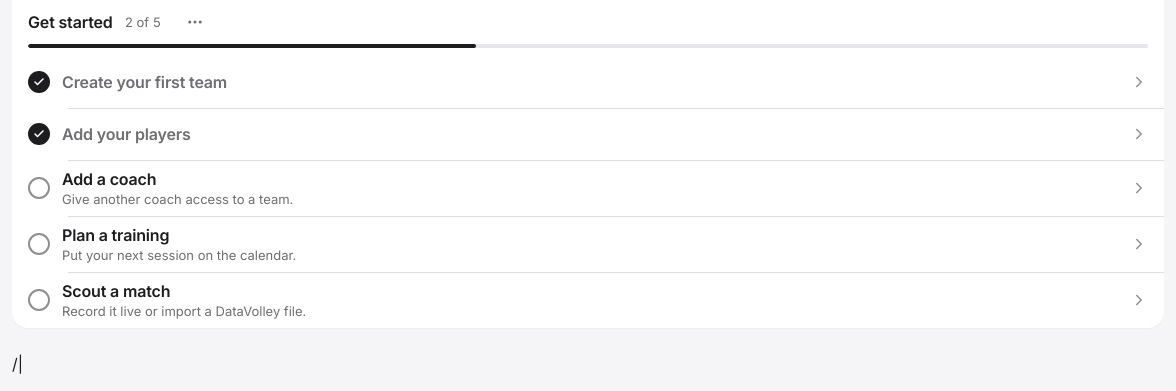
Test: GetStartedCard › Scout a match, Add a coach and Create your first team navigate
The image size is (1176, 391).
Click the button "Scout a match Record it live or import a DataVolley file.": (116, 291) [12,272,1164,328]
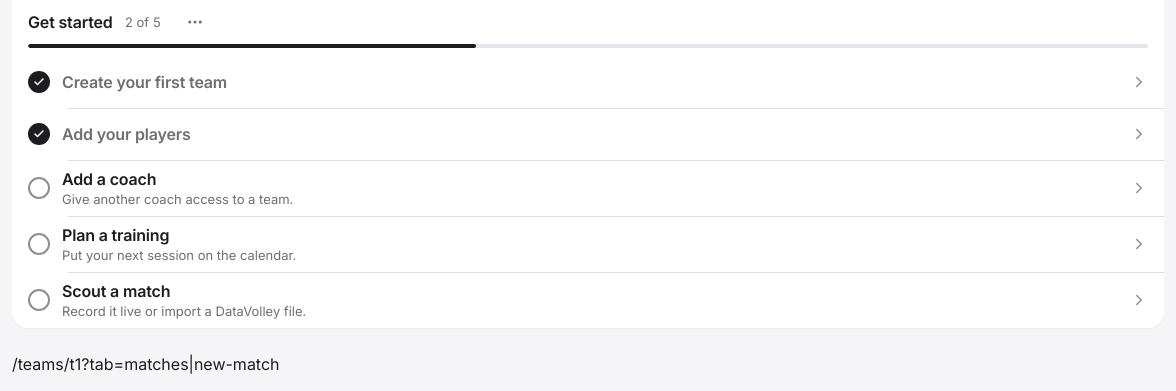
Result: the text with test id "where" reads "/teams/t1?tab=matches|new-match" at [12,354,280,374]
Click the button "Add a coach Give another coach access to a team.": (109, 179) [12,160,1164,216]
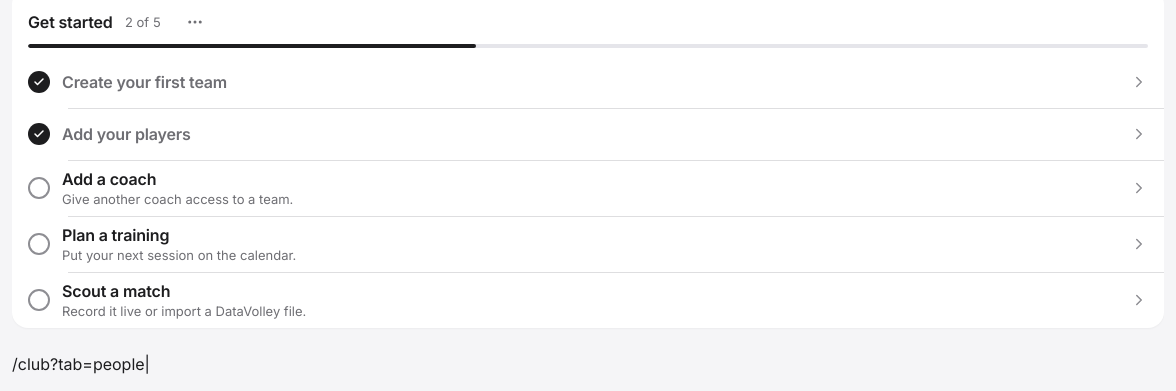
Result: the text with test id "where" reads "/club?tab=people|" at [12,354,150,374]
Click the button with aria-label "Create your first team, done": (145, 82) [12,56,1164,108]
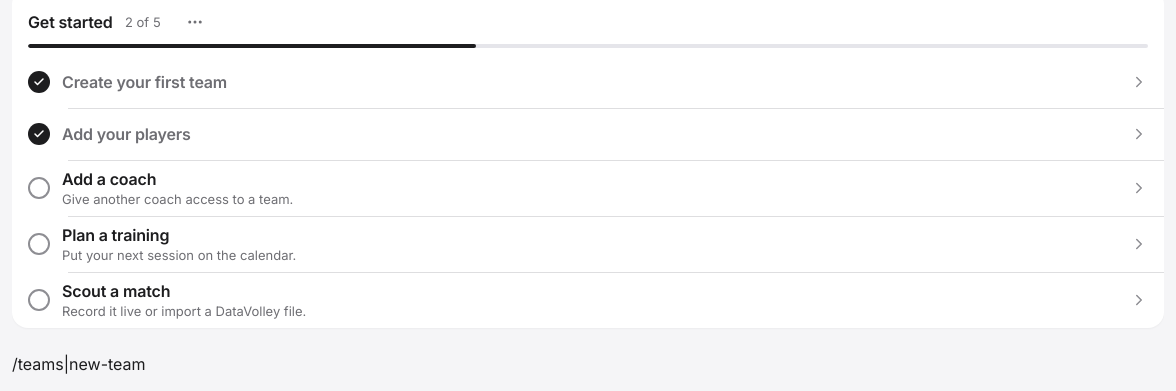
Result: the text with test id "where" reads "/teams|new-team" at [12,354,146,374]
